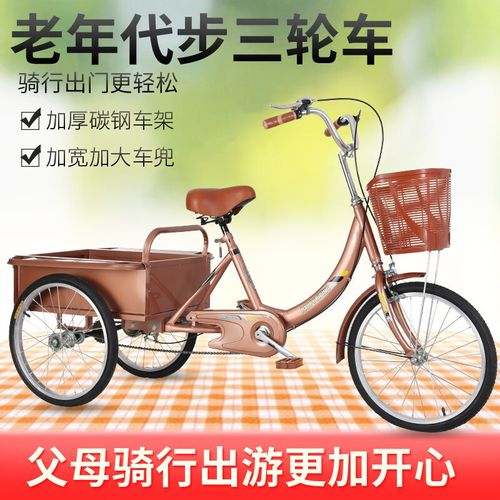empty: (11, 94, 496, 430)
